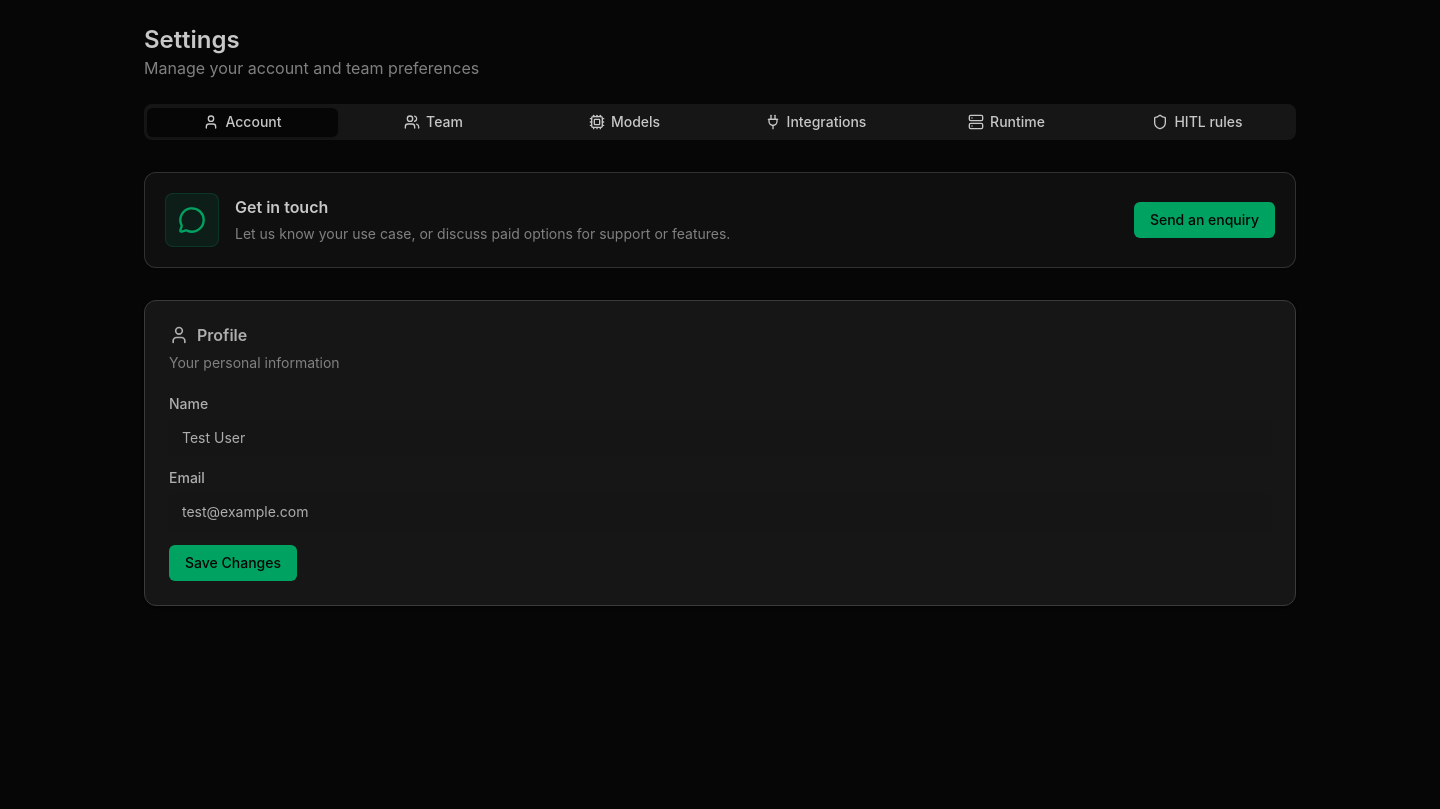
SettingsView › displays team settings when a team is selected
Click the tab "Team" at point(434, 122), box [338, 108, 529, 136]
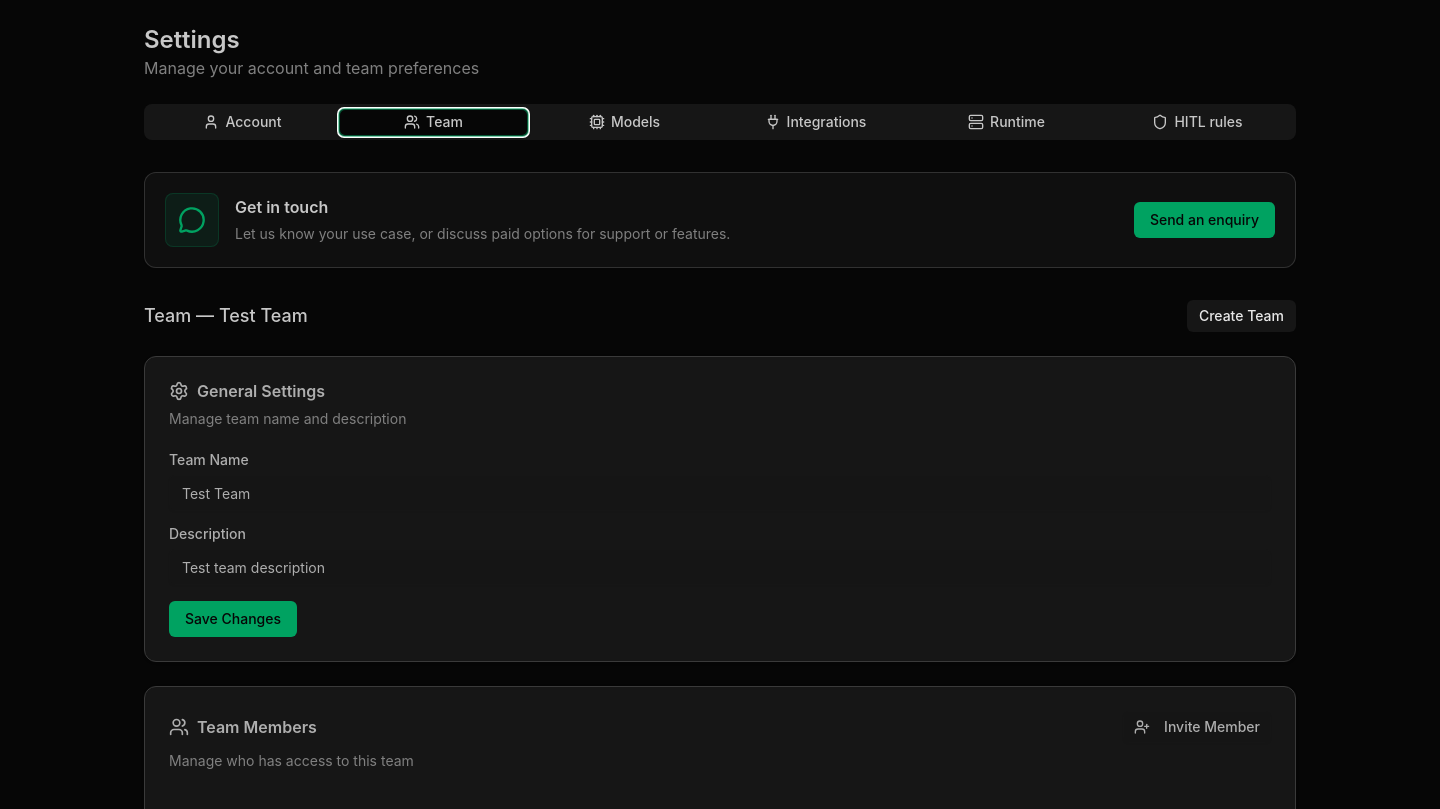
Now the text "General Settings" is shown, box [197, 383, 325, 399]
Now the text "Team Members" is shown, box [197, 719, 317, 735]
Click the tab "Models" at point(624, 122), box [529, 108, 720, 136]
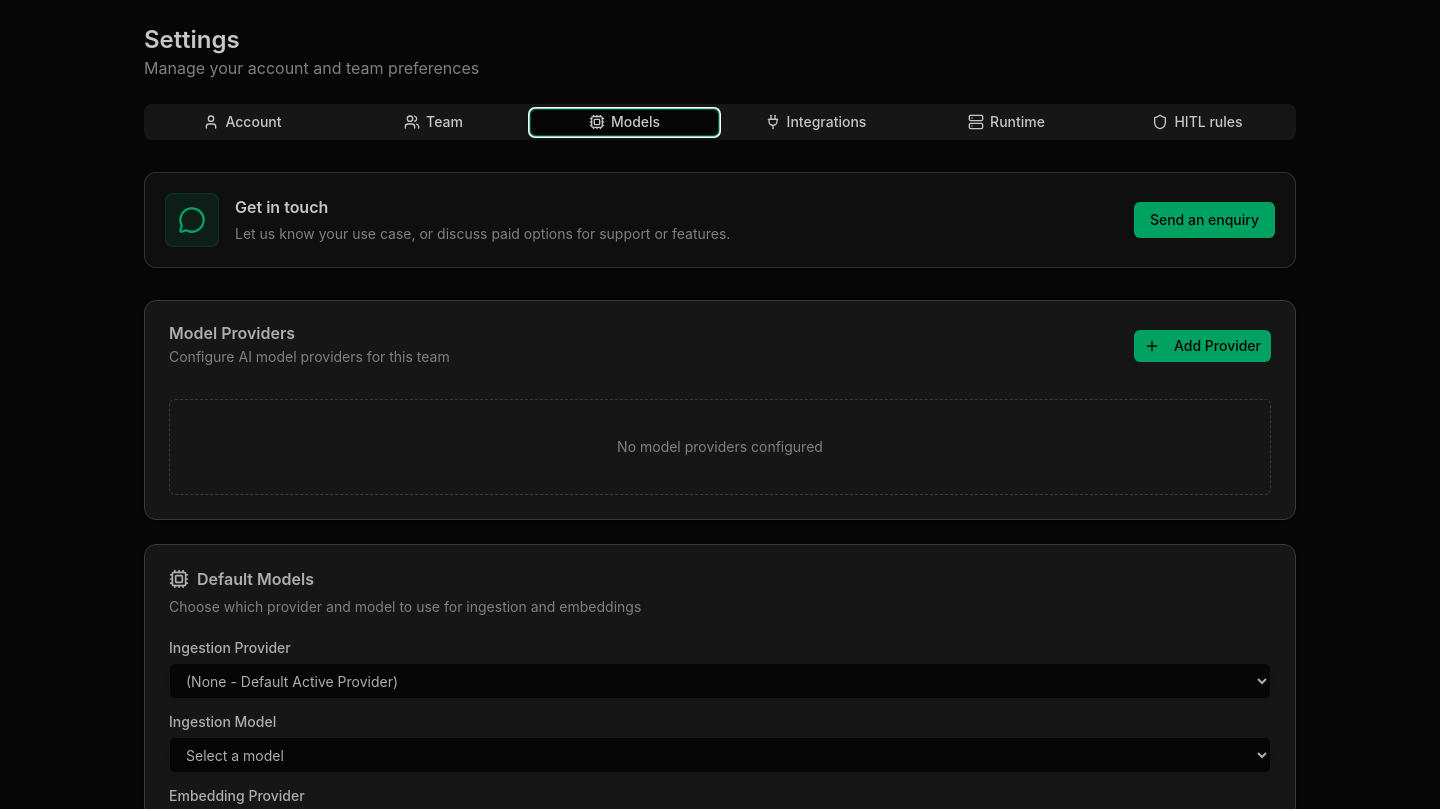
Now the text "Model Providers" is shown, box [169, 323, 295, 343]
